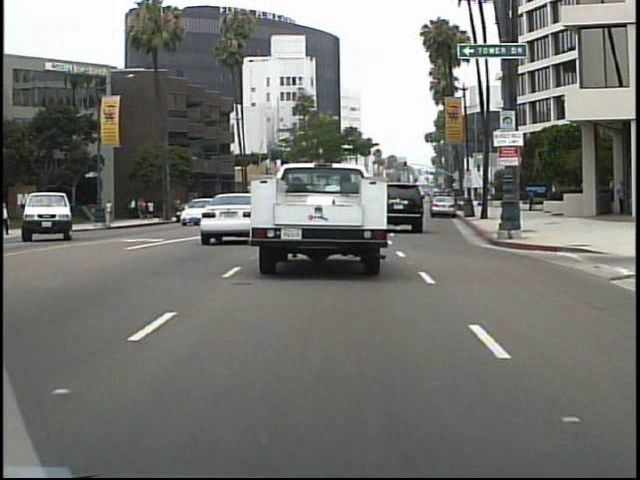person: (612, 173, 627, 218), (2, 194, 16, 239), (56, 193, 72, 231), (48, 200, 64, 236), (525, 185, 536, 213), (107, 197, 115, 225)
